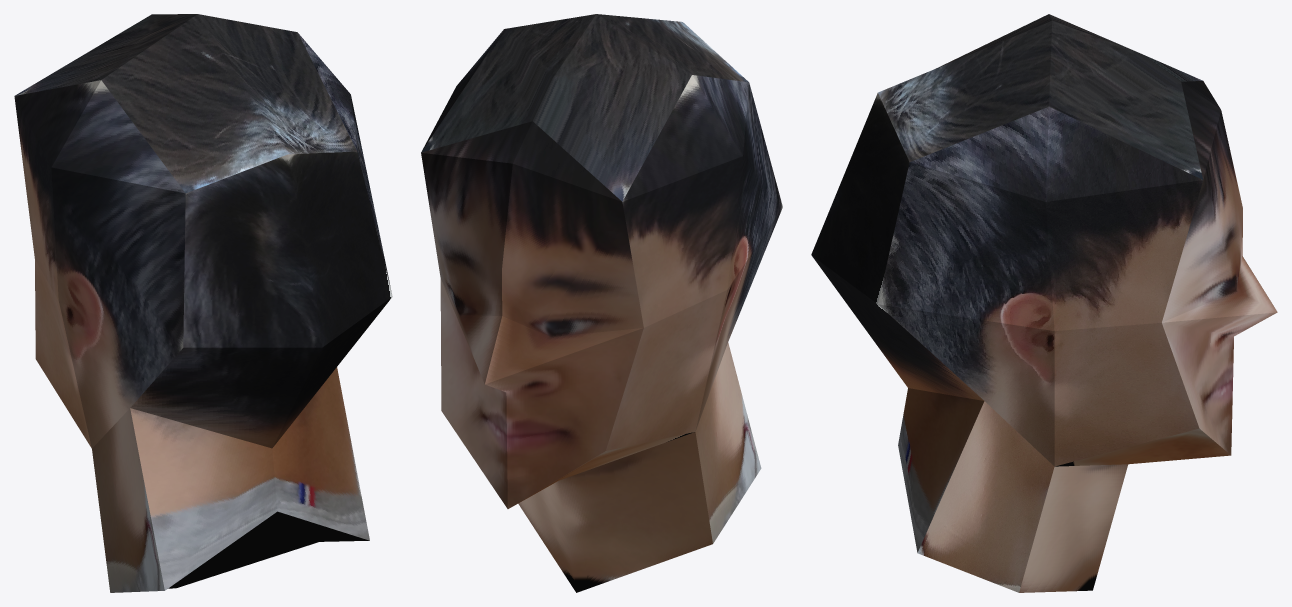
3 renders of one model, left to right at view 1: azimuth 30°, elevation 25°; view 2: azimuth 150°, elevation 25°; view 3: azimuth 270°, elevation 25°, orthographic. The views are drawn at different scales.
Parts seen in each view (by area): view 1: Head; view 2: Head; view 3: Head.
Boxes of the visible parts, x1,y1,x2,y2 form: Head: (14,14,392,592); Head: (421,14,782,592); Head: (811,14,1277,592).
Size of what is drawn, in the model's own units: 0.9537 by 1.79 by 1.33.
1 material, 1 textured.
